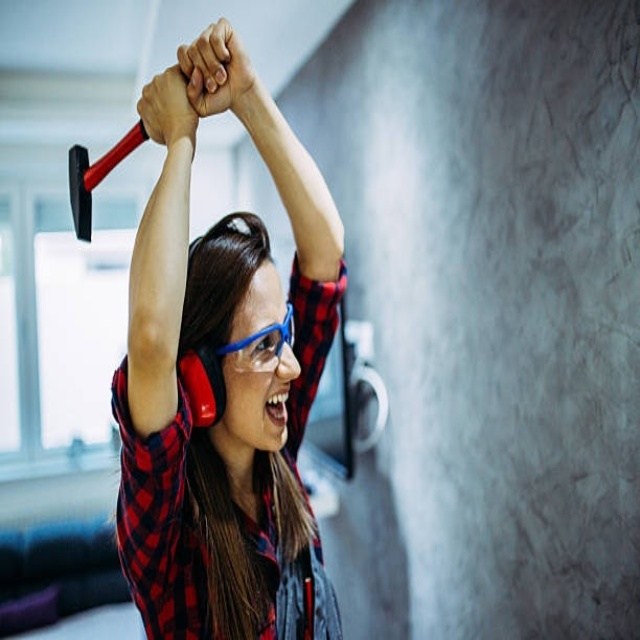Gafas: (214, 302, 295, 365)
Sin_guantes: (169, 13, 254, 125), (135, 60, 201, 147)
Sin_mascara: (249, 378, 293, 445)
